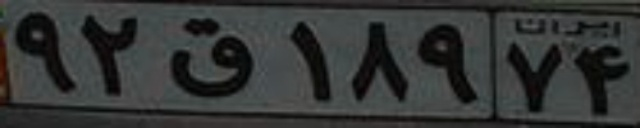1: (287, 19, 330, 101)
2: (81, 12, 141, 97)
4: (571, 43, 632, 117)
7: (502, 38, 564, 112)
8: (347, 20, 410, 102)
9: (415, 21, 482, 104), (12, 12, 74, 95)
ghaf: (165, 16, 254, 98)
